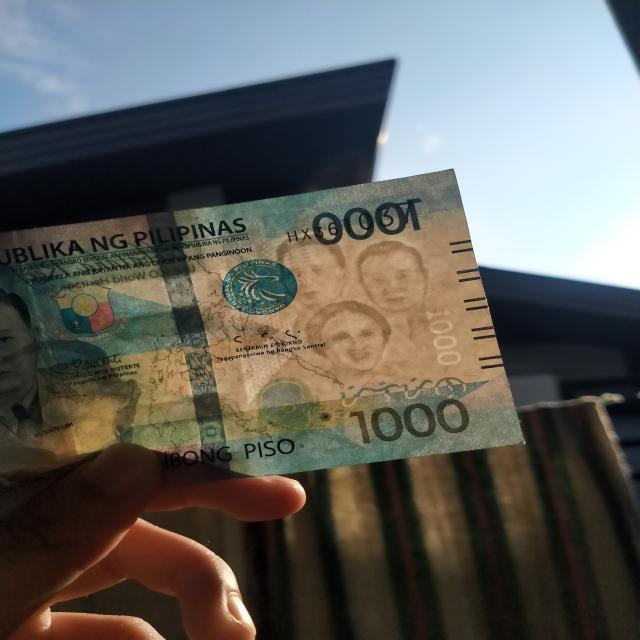security_thread: (143, 210, 230, 481)
see_through_mark: (334, 375, 476, 409)
value_watermark: (417, 303, 471, 371)
watermark: (273, 232, 431, 375)
